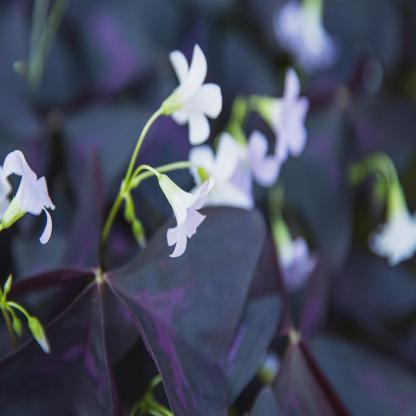Kupu-Kupu: (9, 137, 237, 413)
